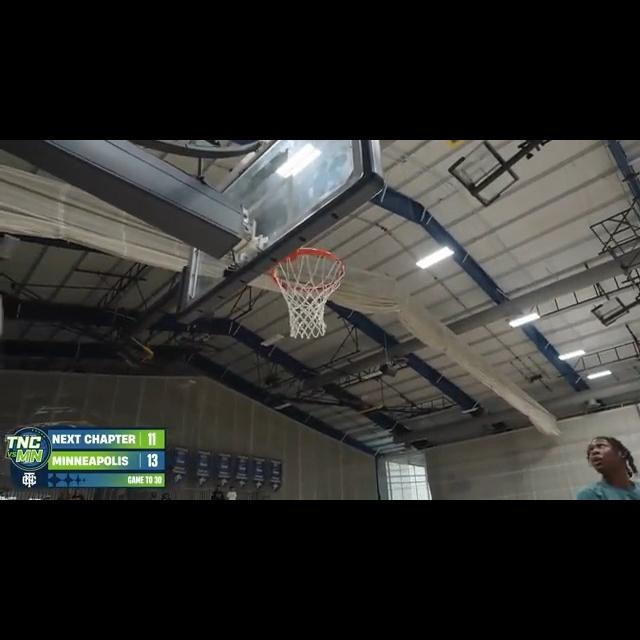hoop: (270, 243, 345, 338)
